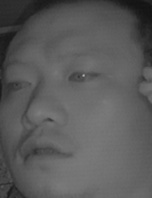eye: (64, 63, 99, 88), (3, 74, 35, 95)
mouth: (15, 136, 74, 169)
